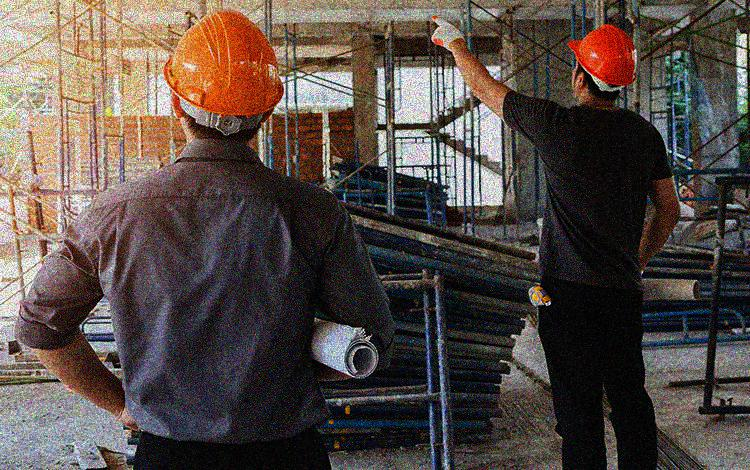helmet: (162, 8, 286, 149), (566, 23, 638, 105)
